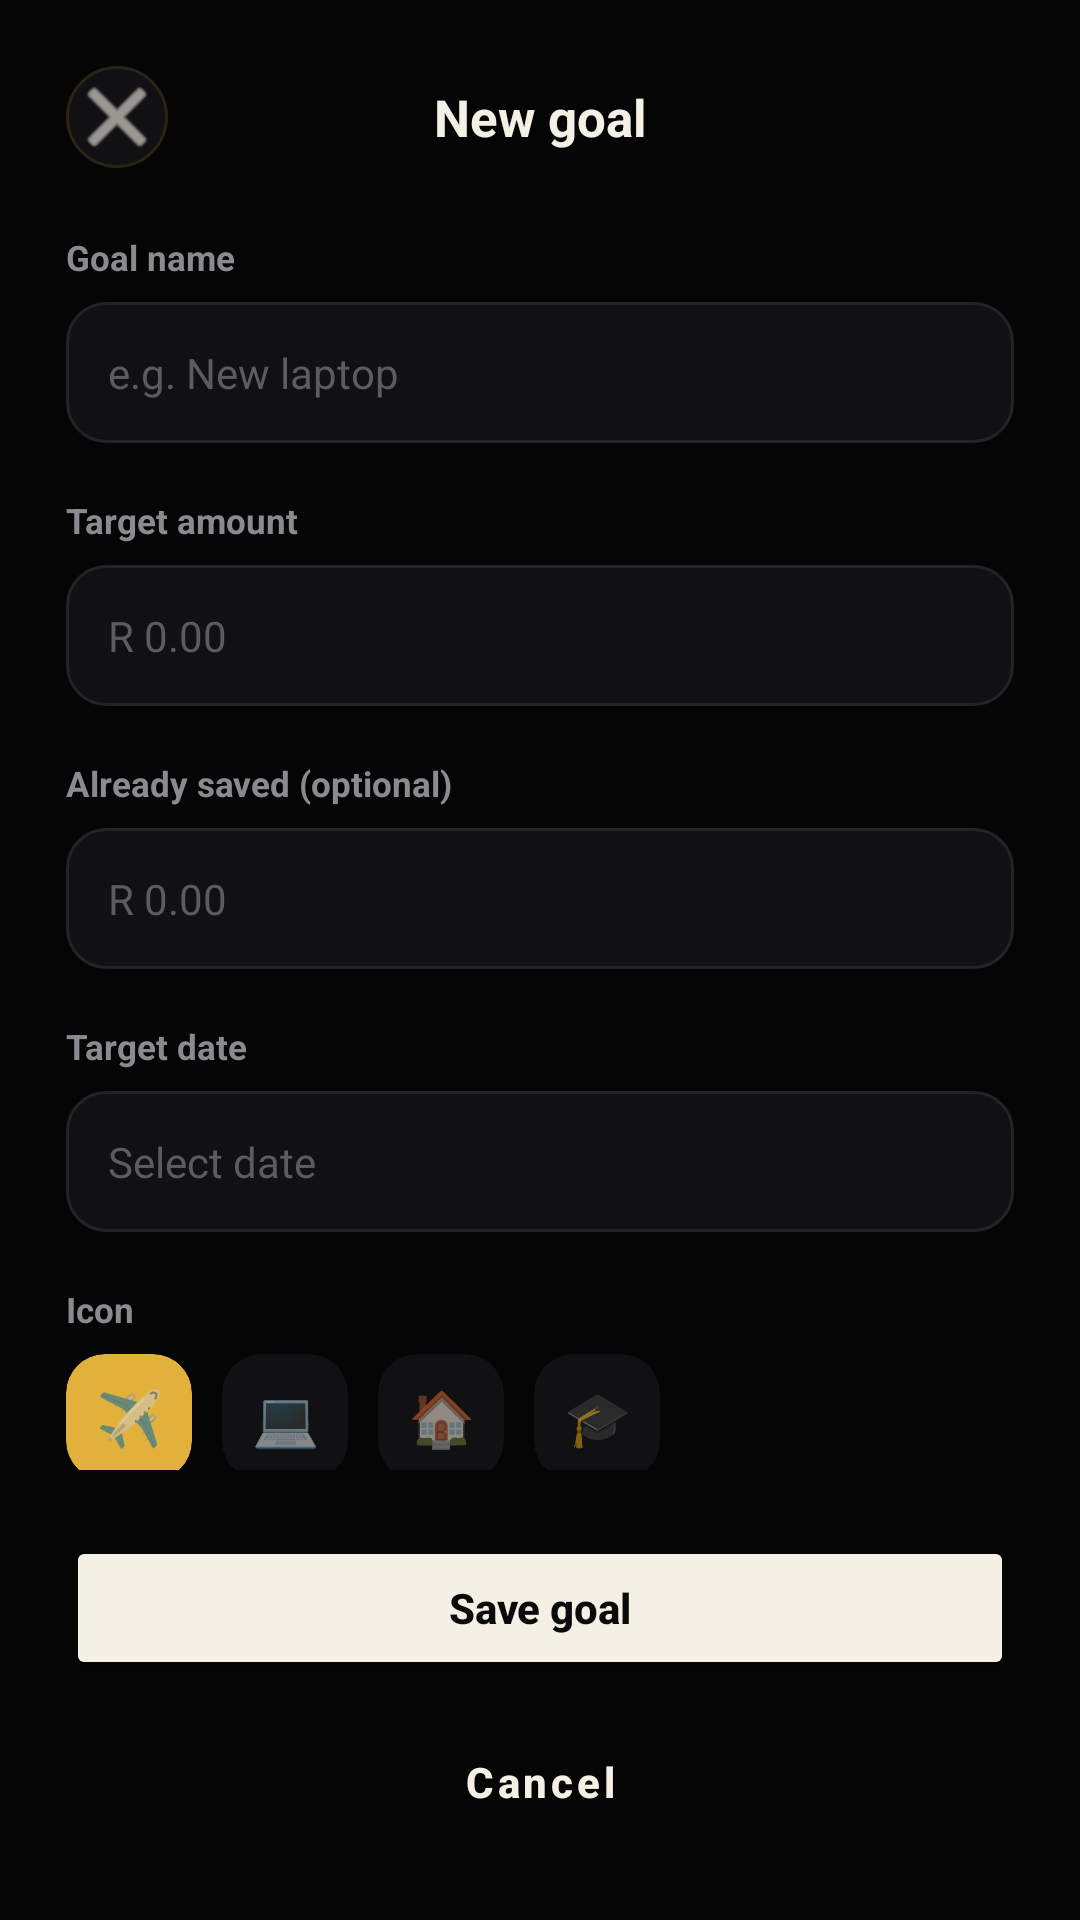

Where to tap for icons on this 1080x1920 app screen, as point (x, y):
close clear cancel: point (117, 117)
